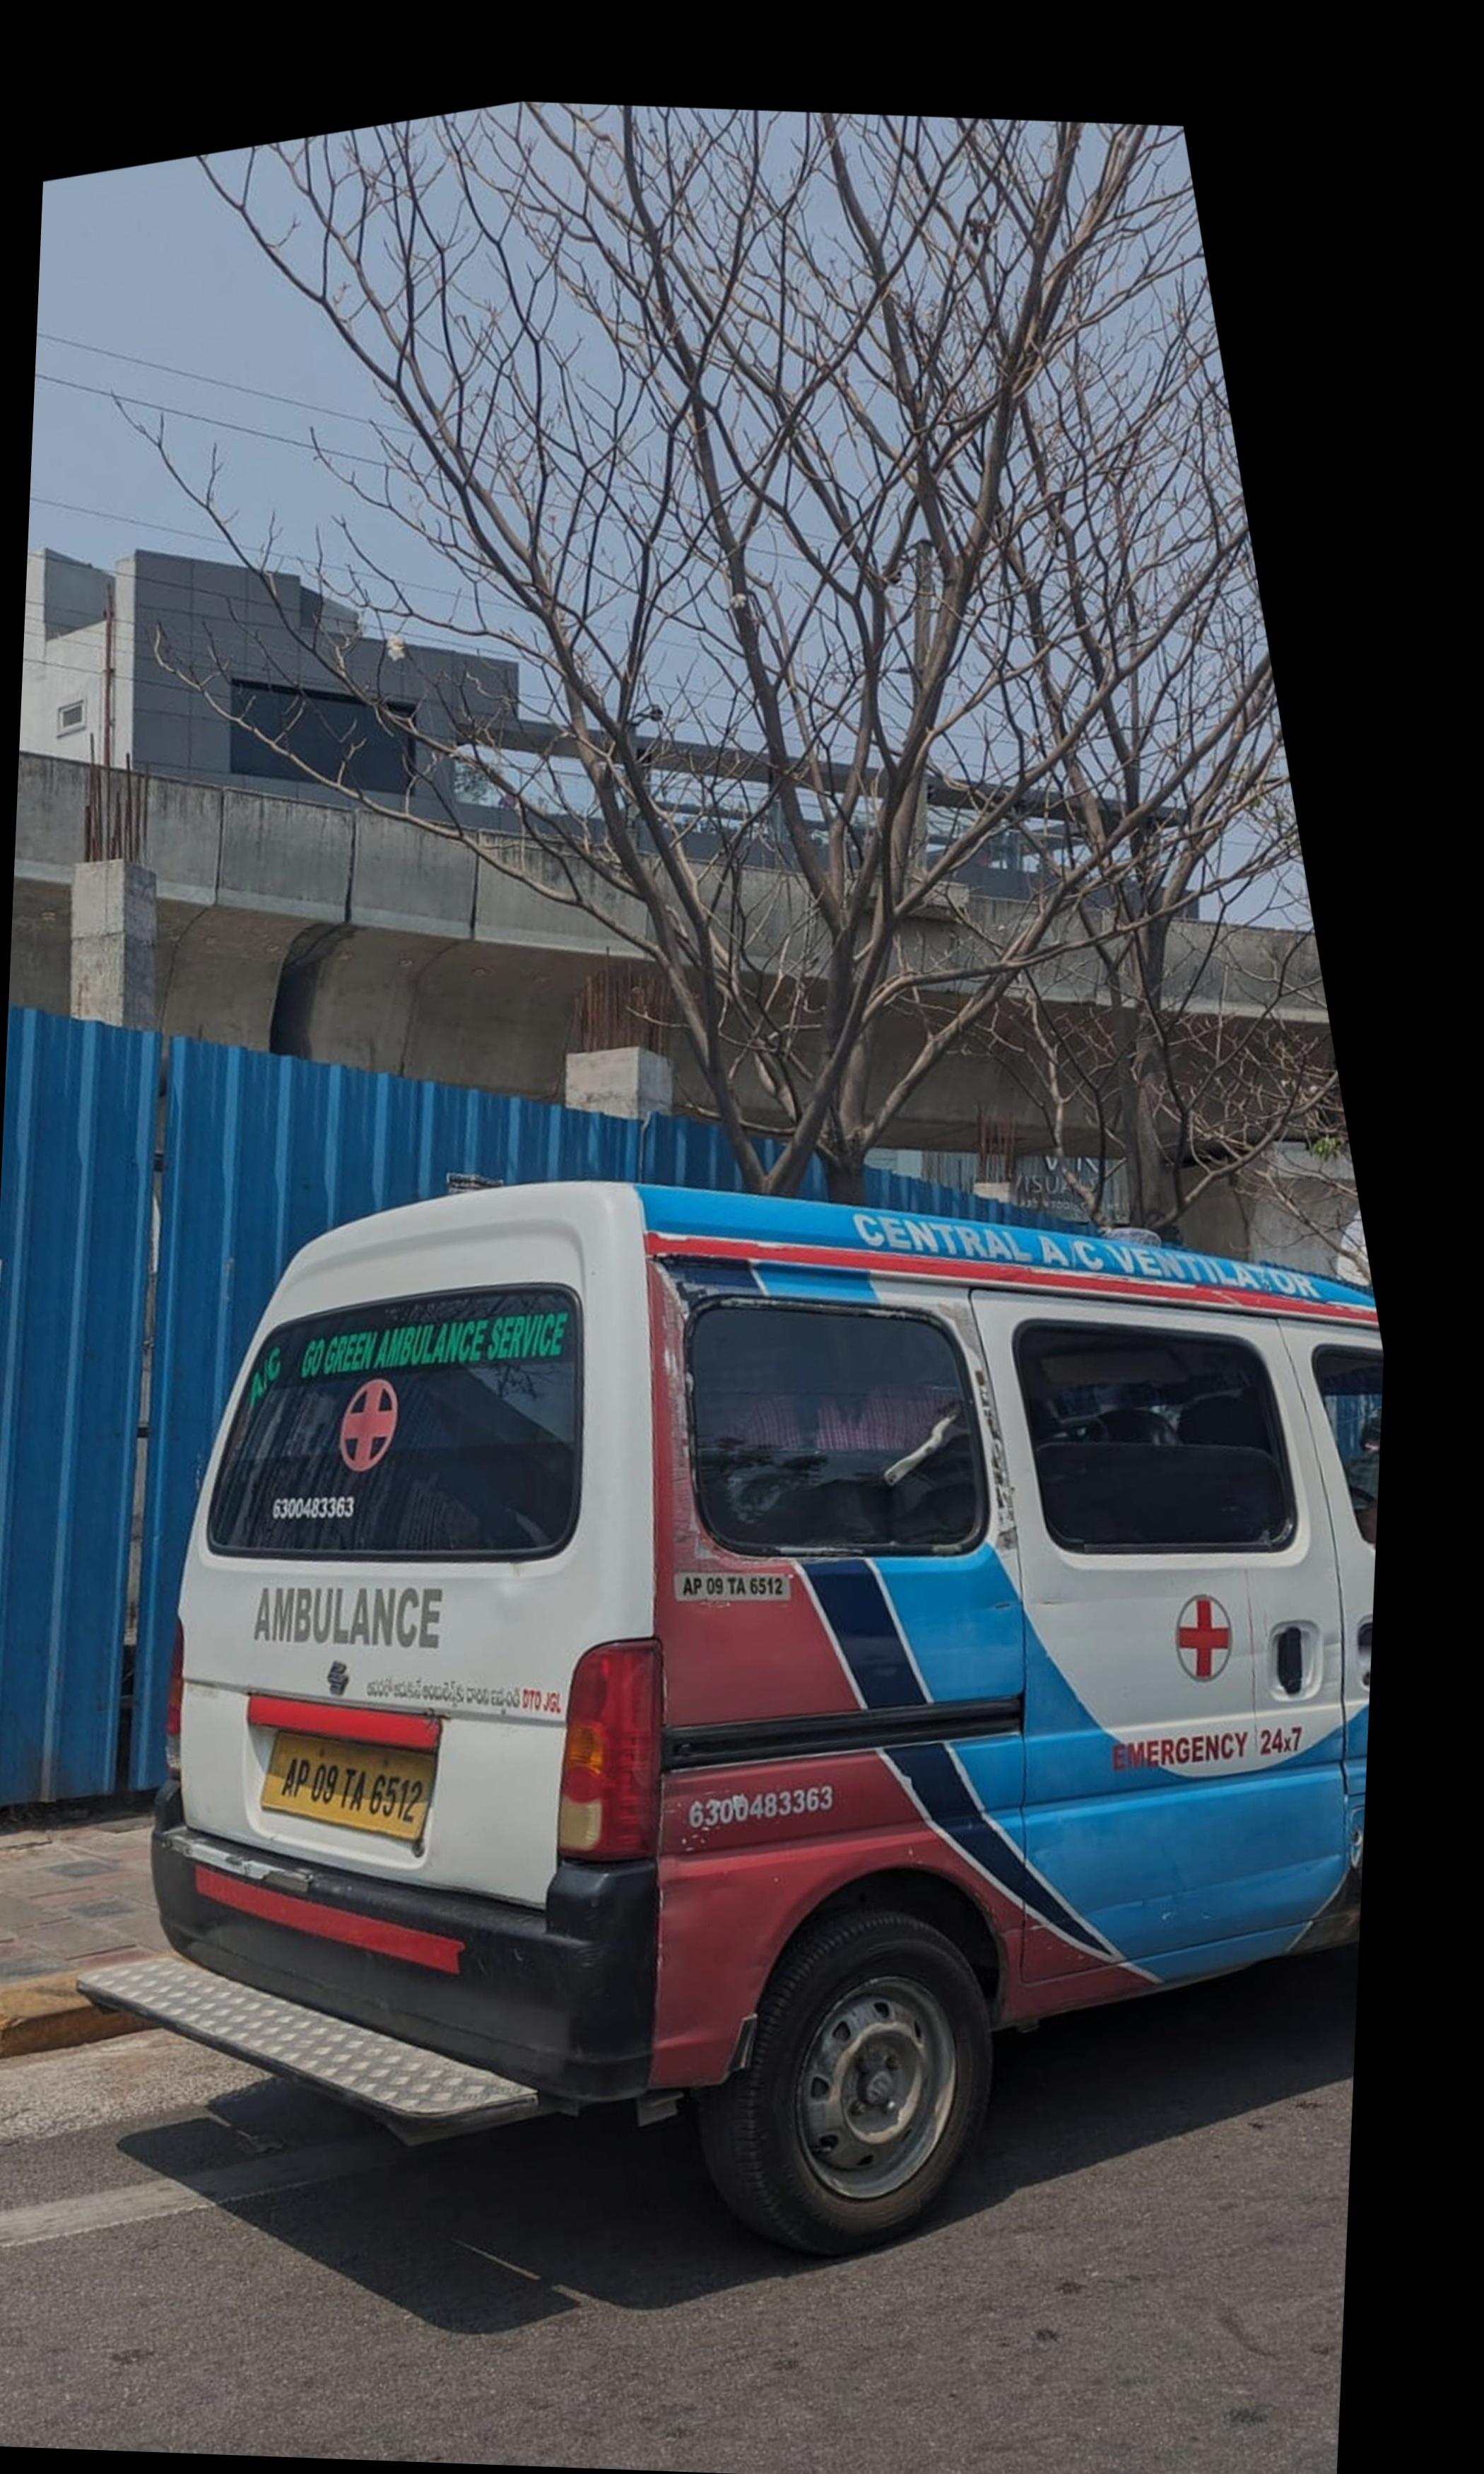ambulance: (71, 1173, 1371, 2244)
